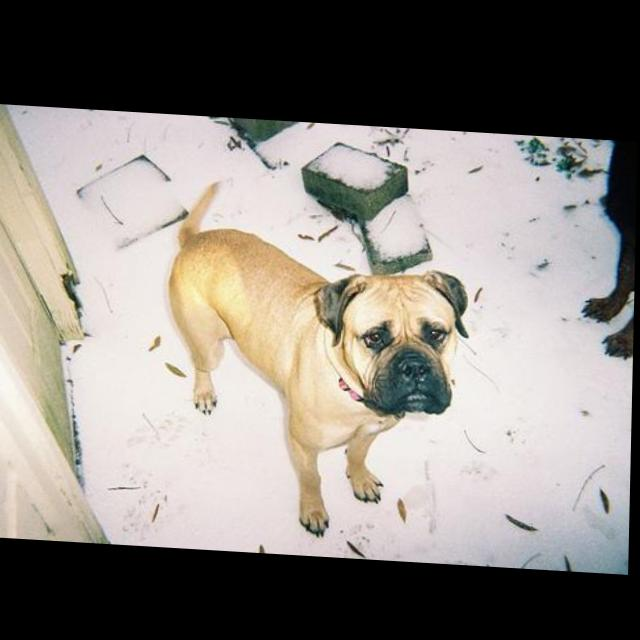bullmastiff: (166, 174, 476, 540)
face: (346, 273, 461, 411)
